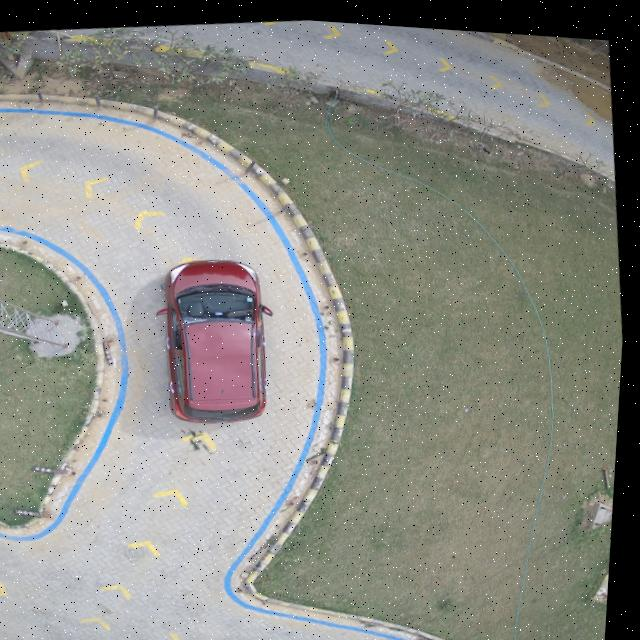car: (160, 256, 273, 420)
